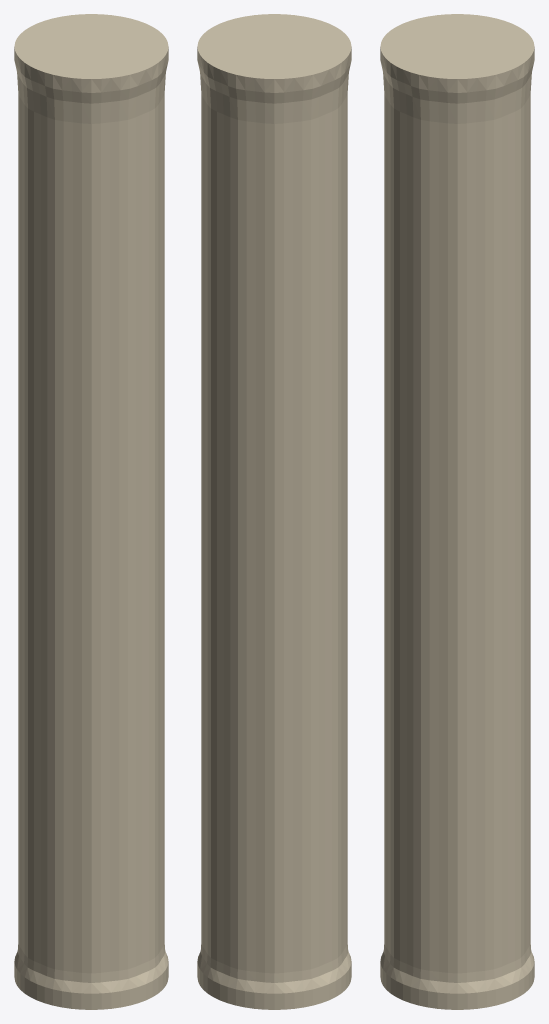
The model's file is waterfront-column.lod0.glb.
3 views of the same model, side by side, from view 1: azimuth 30°, elevation 25°; view 2: azimuth 150°, elevation 25°; view 3: azimuth 270°, elevation 25° (orthographic).
Visible parts, largest first — view 1: waterfront-column; view 2: waterfront-column; view 3: waterfront-column.
Part boxes in pixels (x1=…): waterfront-column: x1=14, y1=14, x2=168, y2=1009; waterfront-column: x1=197, y1=14, x2=351, y2=1009; waterfront-column: x1=380, y1=14, x2=534, y2=1009.
Size of the model in its own units: 1.2 by 8 by 1.2.
